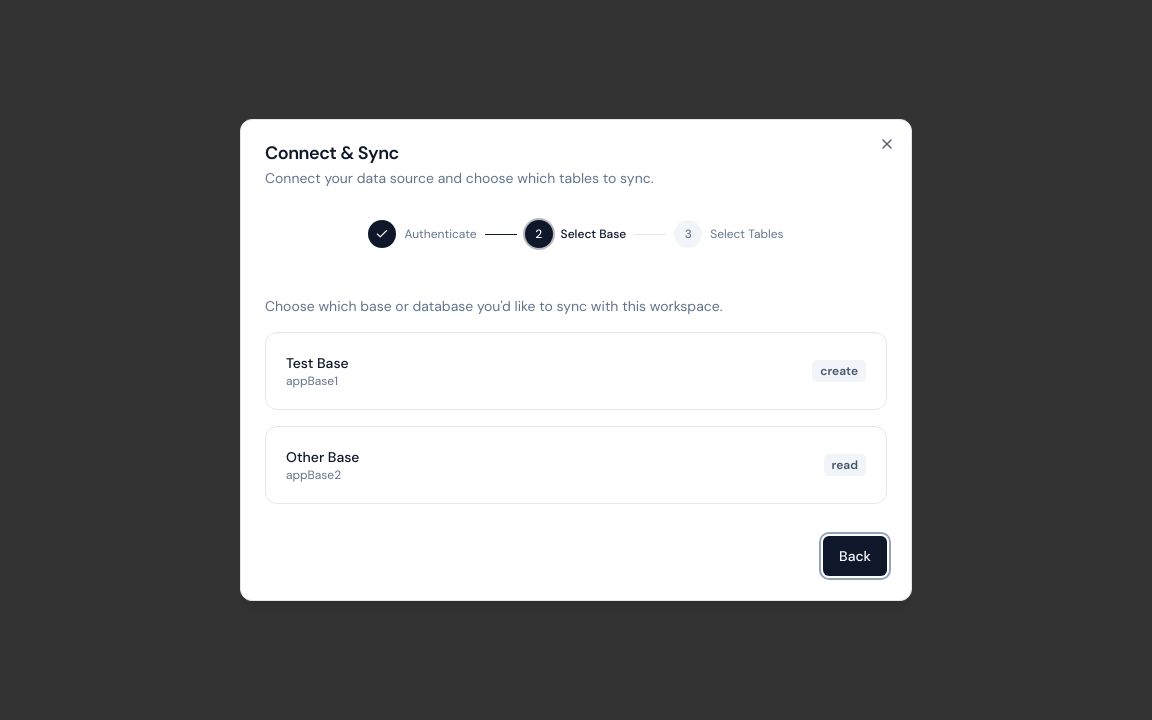
Test case: SyncSetupWizard › Step 3 — Select Tables › loads tables and quota on step 3
expect the text "Test Base" is shown: met, box [286, 353, 349, 373]
Click the element with test id "base-card-appBase1" at (576, 371), box [265, 332, 887, 410]
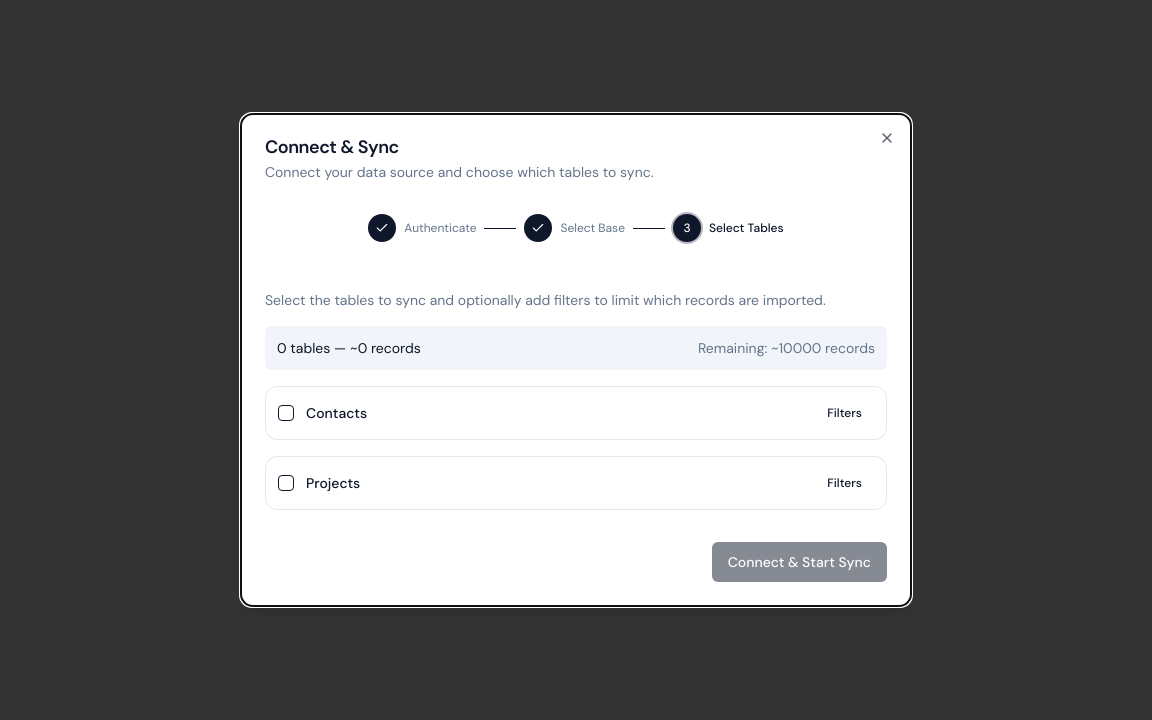
expect the text "Contacts" is shown: met, box [306, 404, 367, 422]
expect the text "Projects" is shown: met, box [306, 474, 360, 492]
